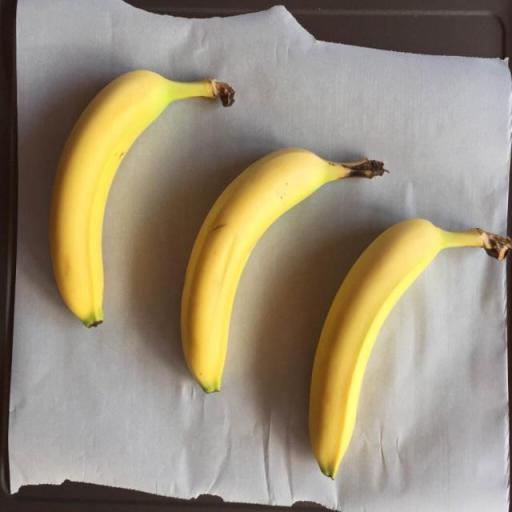fruit: (309, 220, 511, 478), (181, 148, 384, 391), (50, 71, 233, 327)
